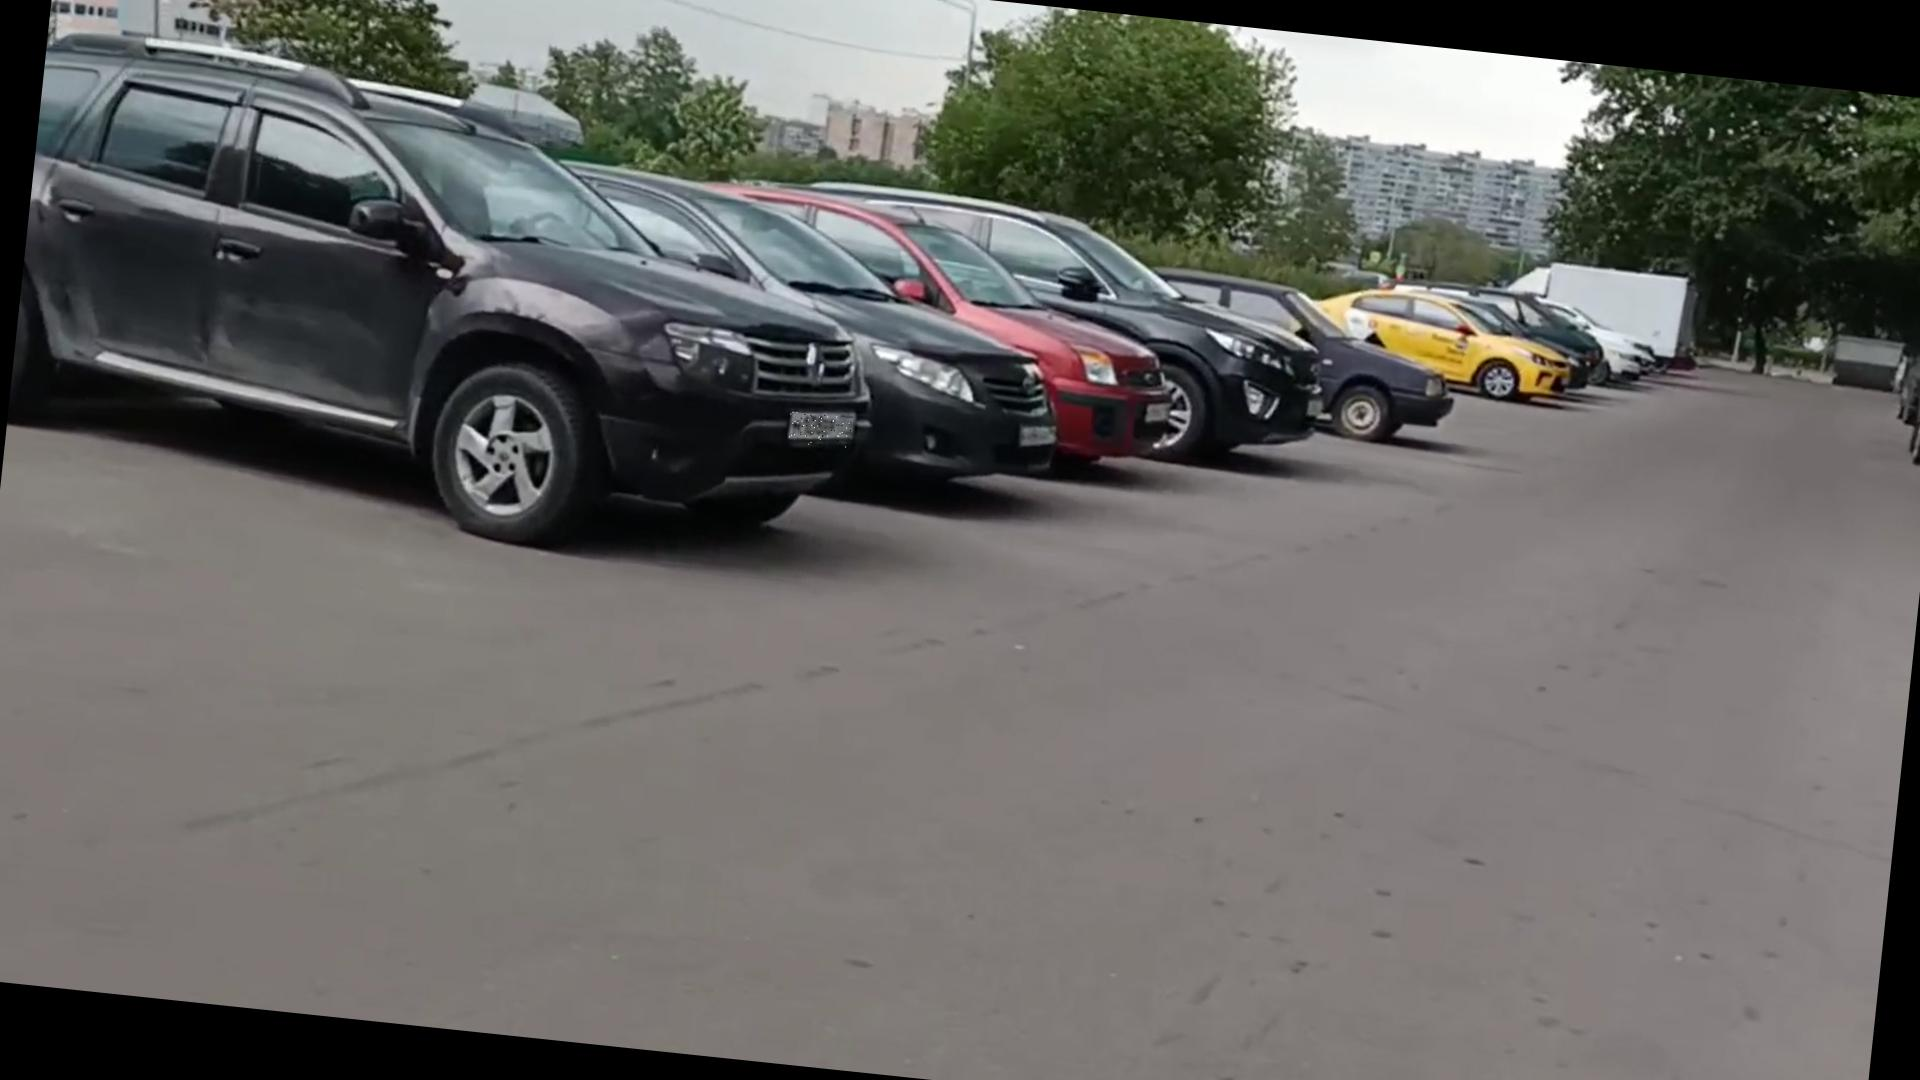plate: (788, 413, 854, 451)
